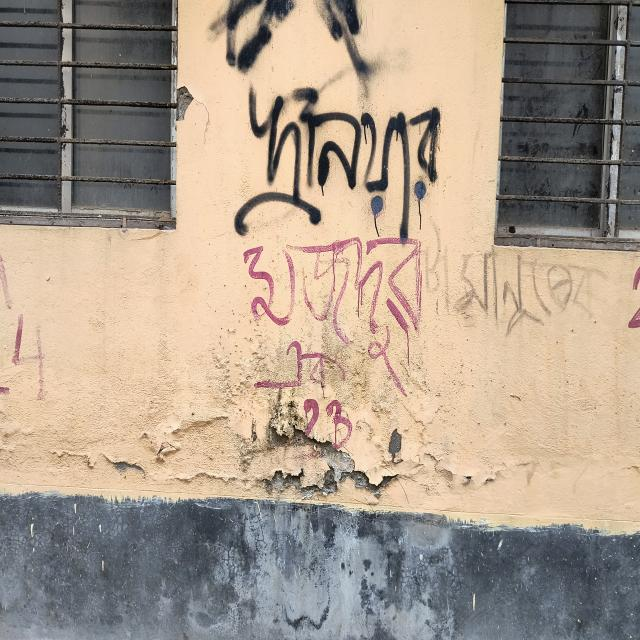peeling: (0, 340, 504, 509)
